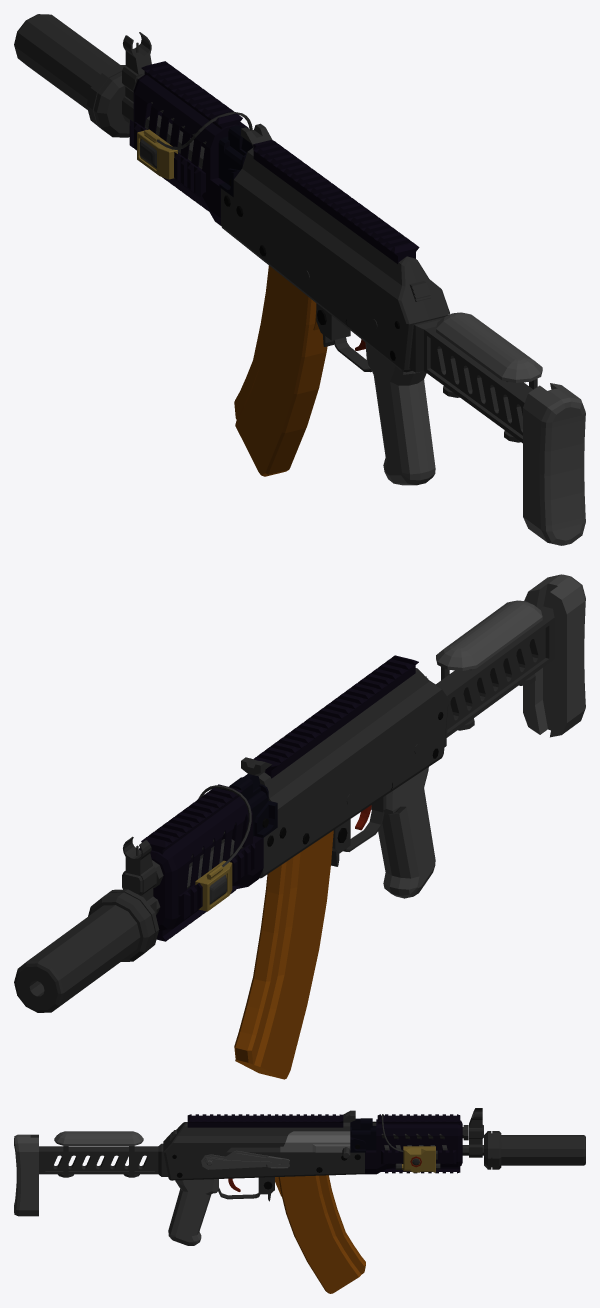
The model's file is aks74upickup.glb.
3 views of the same model, one above another, from view 1: azimuth 30°, elevation 25°; view 2: azimuth 150°, elevation 25°; view 3: azimuth 270°, elevation 25° (orthographic). The views are drawn at different scales.
Parts seen in each view (by area): view 1: Cube.101; view 2: Cube.101; view 3: Cube.101.
Part boxes in pixels (<box>): Cube.101: <box>14,14,585,545</box>; Cube.101: <box>14,574,585,1079</box>; Cube.101: <box>14,1108,585,1293</box>.
Bounding box in the file's own units: 1.18 × 4.59 × 13.16.
